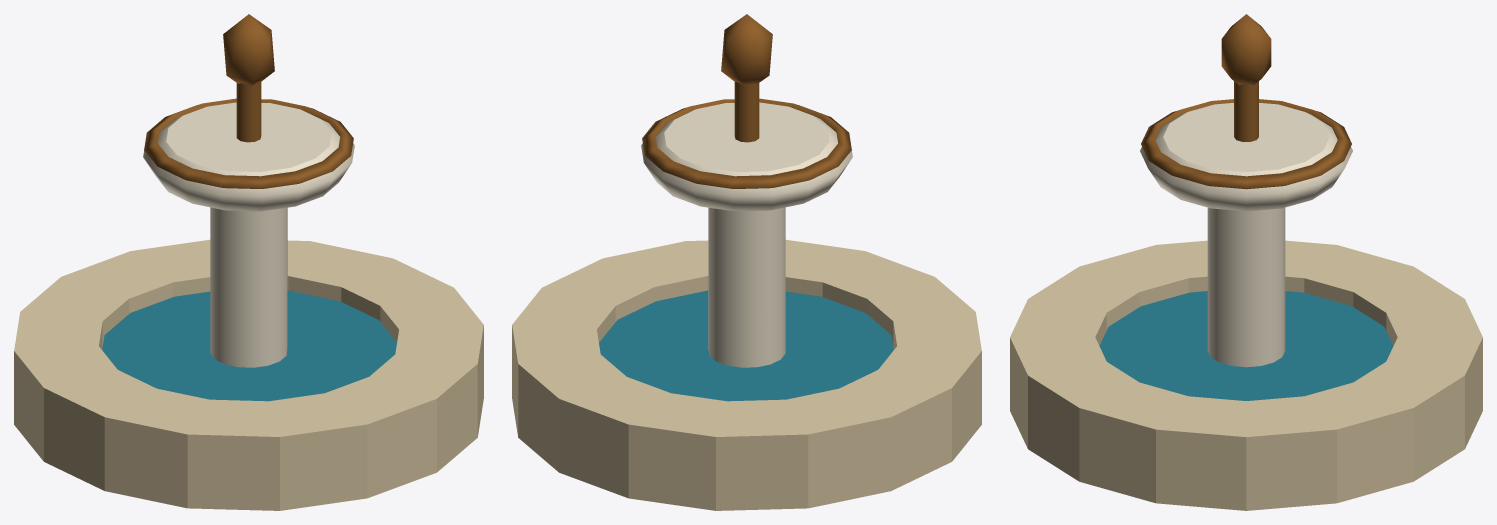
Rendered from decor_courtyard_fountain_LOD1.glb.
3 renders of one model, left to right at view 1: azimuth 30°, elevation 25°; view 2: azimuth 150°, elevation 25°; view 3: azimuth 270°, elevation 25°, orthographic.
Parts seen in each view (by area): view 1: decor_courtyard_fountain_LOD1; view 2: decor_courtyard_fountain_LOD1; view 3: decor_courtyard_fountain_LOD1.
Boxes of the visible parts, x1,y1,x2,y2 form: decor_courtyard_fountain_LOD1: (14, 14, 483, 510); decor_courtyard_fountain_LOD1: (512, 14, 981, 510); decor_courtyard_fountain_LOD1: (1010, 14, 1482, 510).
Bounding box in the file's own units: 2.44 × 2.26 × 2.44.
